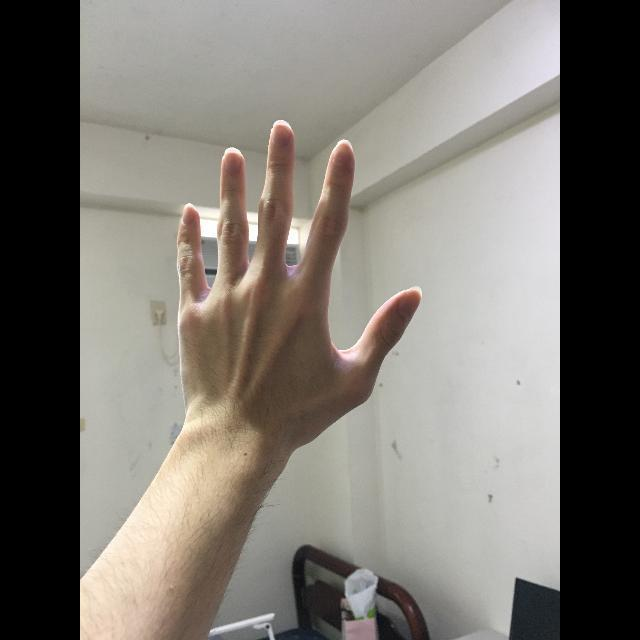bare_hand: (175, 119, 423, 432)
